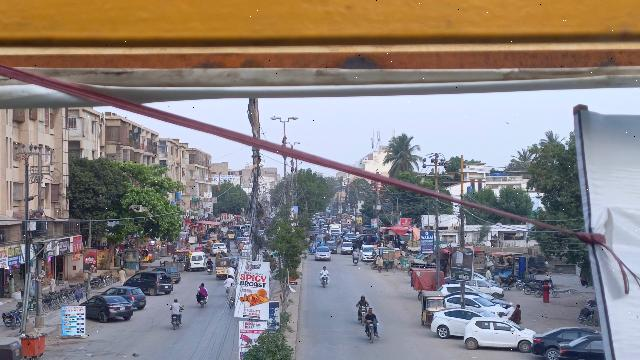Bike: (365, 320, 378, 344), (357, 304, 370, 323), (171, 312, 182, 332), (319, 274, 330, 289), (226, 296, 236, 312), (198, 296, 207, 309), (205, 267, 213, 278)
Car: (462, 315, 536, 352), (529, 326, 598, 359), (429, 308, 493, 340), (81, 295, 132, 323), (125, 269, 174, 296), (556, 333, 602, 360), (446, 294, 501, 314), (102, 285, 147, 309), (153, 266, 180, 283)
Person: (363, 306, 379, 323), (168, 298, 184, 314), (72, 284, 83, 307), (355, 294, 371, 309), (196, 282, 210, 299), (512, 303, 523, 324), (225, 282, 237, 299), (506, 301, 515, 320), (318, 263, 330, 276), (206, 257, 215, 267)
Rickshaw: (418, 290, 446, 327), (215, 257, 231, 280)
Van: (189, 251, 206, 272)
